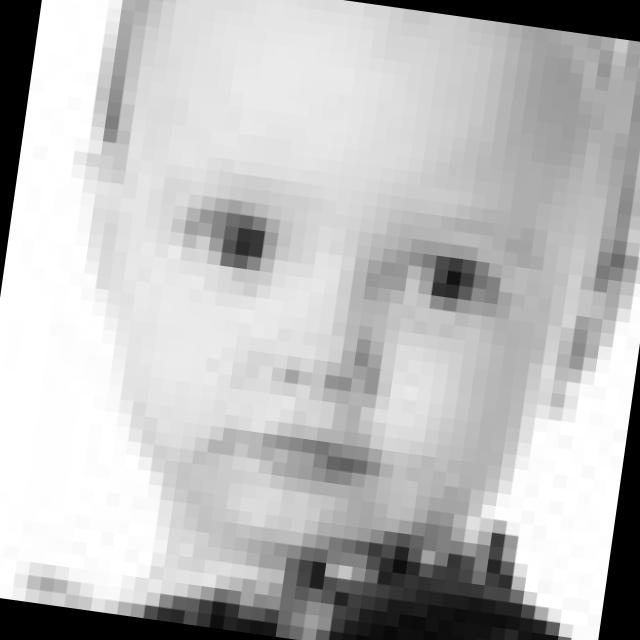neutral: (115, 156, 545, 521)
